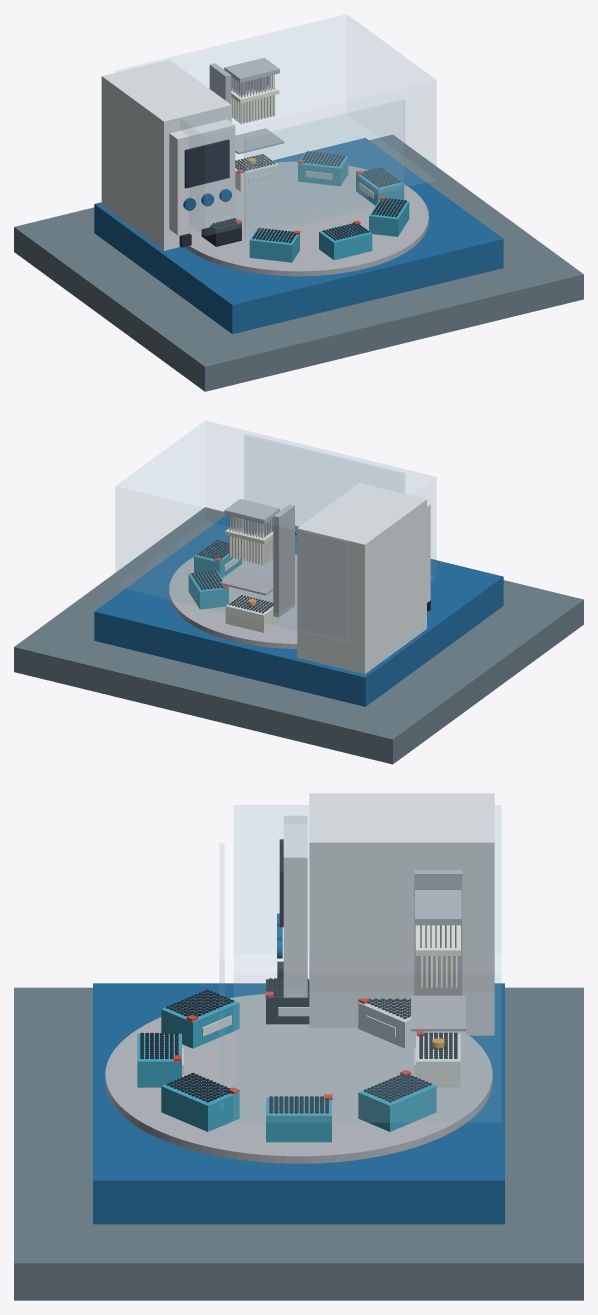
File: kingfisher20.glb
3 views of the same model, one above another, from view 1: azimuth 30°, elevation 25°; view 2: azimuth 150°, elevation 25°; view 3: azimuth 270°, elevation 25° (orthographic). The views are drawn at different scales.
Visible parts, largest first — view 1: environment.bench, machine.cover, machine.base, machine.door, machine.tower, turntable.deck, controls.panel, controls.screen, plate.body.4, plate.body.5, plate.body.3, plate.body.1 (+6 smaller); view 2: environment.bench, machine.cover, machine.tower, machine.base, machine.door, turntable.deck, mechanism.zrails, plate.body.0, plate.body.1, mechanism.shield, head.magnet.holder, plate.body.2 (+1 smaller); view 3: environment.bench, machine.cover, machine.base, machine.tower, turntable.deck, controls.panel, plate.body.1, plate.body.3, mechanism.zrails, plate.body.2, plate.body.5, mechanism.shield (+13 smaller).
Part boxes in pixels (x1=…): environment.bench: x1=14, y1=134, x2=583, y2=391; machine.cover: x1=115, y1=14, x2=436, y2=235; machine.base: x1=94, y1=138, x2=503, y2=334; machine.door: x1=244, y1=99, x2=404, y2=238; machine.tower: x1=101, y1=59, x2=231, y2=250; turntable.deck: x1=184, y1=161, x2=428, y2=276; controls.panel: x1=169, y1=119, x2=235, y2=235; controls.screen: x1=184, y1=139, x2=229, y2=188; plate.body.4: x1=319, y1=224, x2=372, y2=260; plate.body.5: x1=249, y1=228, x2=299, y2=262; plate.body.3: x1=369, y1=199, x2=409, y2=236; plate.body.1: x1=298, y1=152, x2=348, y2=186; environment.bench: x1=14, y1=507, x2=583, y2=764; machine.cover: x1=115, y1=421, x2=436, y2=642; machine.tower: x1=297, y1=483, x2=426, y2=673; machine.base: x1=94, y1=515, x2=503, y2=706; machine.door: x1=244, y1=435, x2=404, y2=547; turntable.deck: x1=169, y1=554, x2=297, y2=648; mechanism.zrails: x1=273, y1=504, x2=294, y2=617; plate.body.0: x1=225, y1=595, x2=278, y2=632; plate.body.1: x1=188, y1=570, x2=228, y2=609; mechanism.shield: x1=220, y1=569, x2=273, y2=595; head.magnet.holder: x1=224, y1=499, x2=279, y2=523; plate.body.2: x1=194, y1=540, x2=241, y2=577; environment.bench: x1=14, y1=987, x2=583, y2=1300; machine.cover: x1=234, y1=805, x2=501, y2=1122; machine.base: x1=93, y1=983, x2=504, y2=1224; machine.tower: x1=309, y1=793, x2=494, y2=1035; turntable.deck: x1=105, y1=994, x2=492, y2=1163; controls.panel: x1=283, y1=815, x2=307, y2=997; plate.body.1: x1=358, y1=1075, x2=436, y2=1131; plate.body.3: x1=161, y1=1074, x2=239, y2=1131; mechanism.zrails: x1=414, y1=870, x2=462, y2=995; plate.body.2: x1=266, y1=1097, x2=331, y2=1142; plate.body.5: x1=161, y1=990, x2=239, y2=1048; mechanism.shield: x1=411, y1=995, x2=465, y2=1031.
Bounding box in the file's own units: 0.95 × 0.44 × 0.83.
